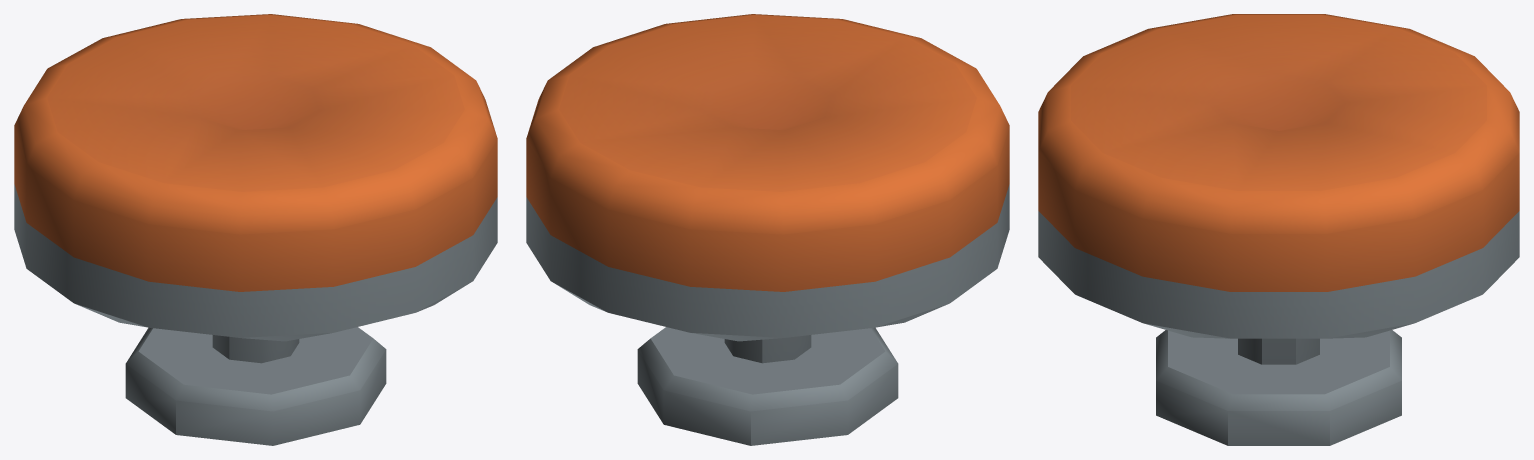
File: Chair Stool.glb
3 views of the same model, side by side, from view 1: azimuth 30°, elevation 25°; view 2: azimuth 150°, elevation 25°; view 3: azimuth 270°, elevation 25° (orthographic).
Visible parts, largest first — view 1: chair_stool; view 2: chair_stool; view 3: chair_stool.
Boxes of the visible parts, <box> form: chair_stool: <box>14,14,497,445</box>; chair_stool: <box>526,14,1009,445</box>; chair_stool: <box>1038,14,1519,445</box>.
Size of the model in its own units: 0.75 by 0.5 by 0.75.
1 material, 1 textured.
